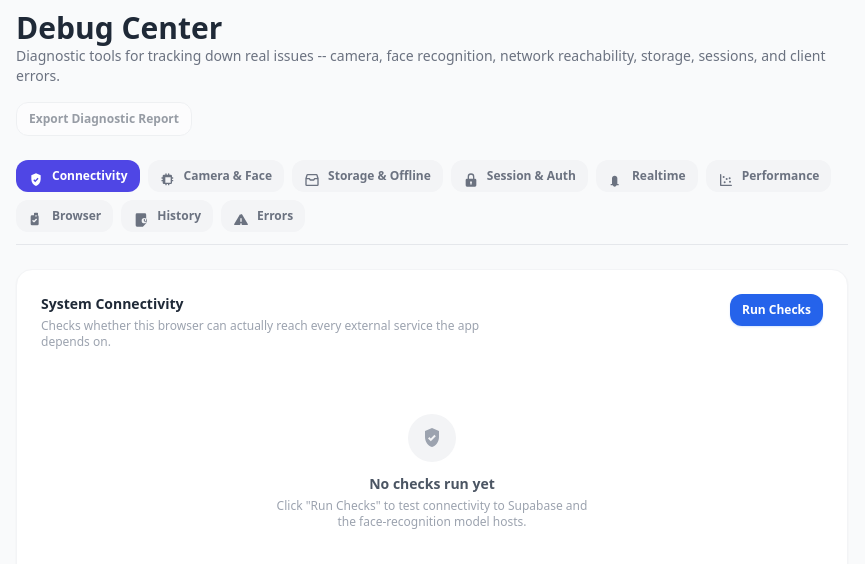
Test: DebugCenterView › switches to the Session & Auth tab and runs its checks
Click the button "Session & Auth". click: coordinates (519, 176)
box: [451,160,588,192]
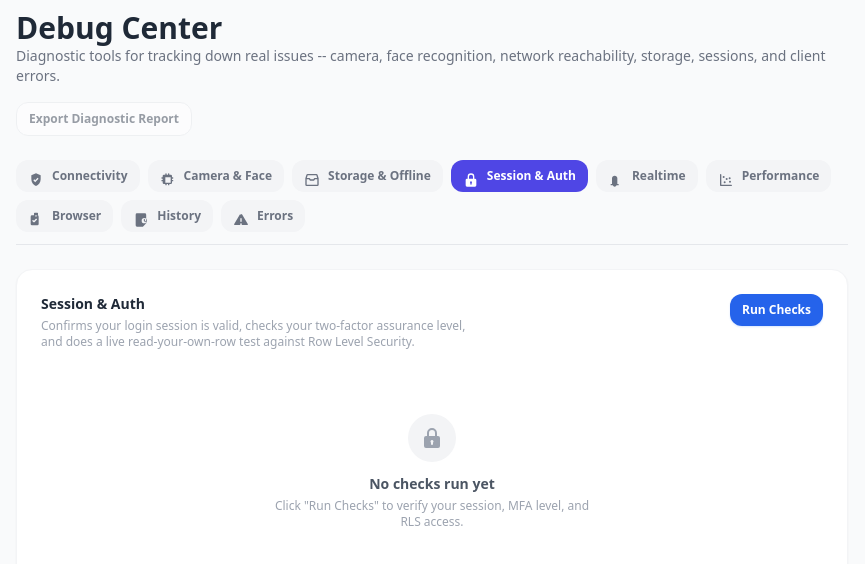
Click the button "Run Checks". click: coordinates (776, 310)
box: [730,294,823,326]
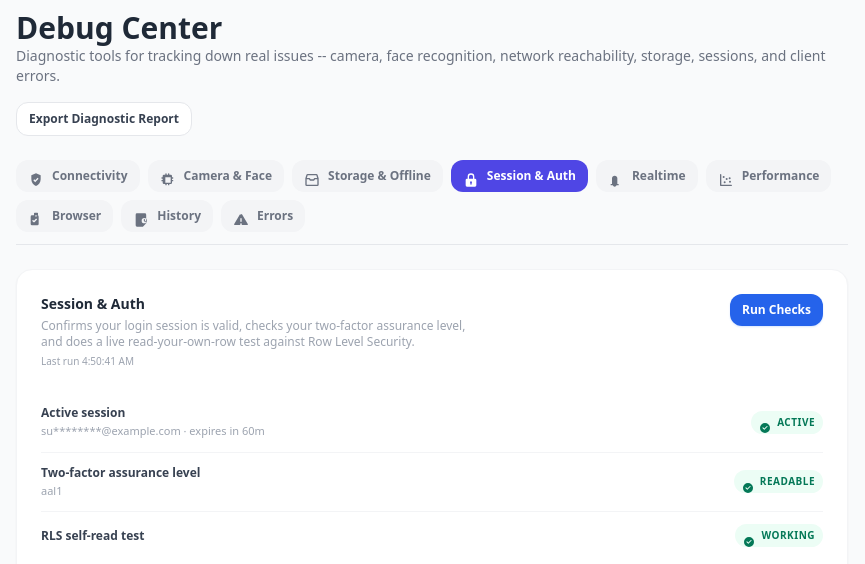
Expected: the text "su********@example.com · expires in 60m" is shown, [41,423,265,440]
